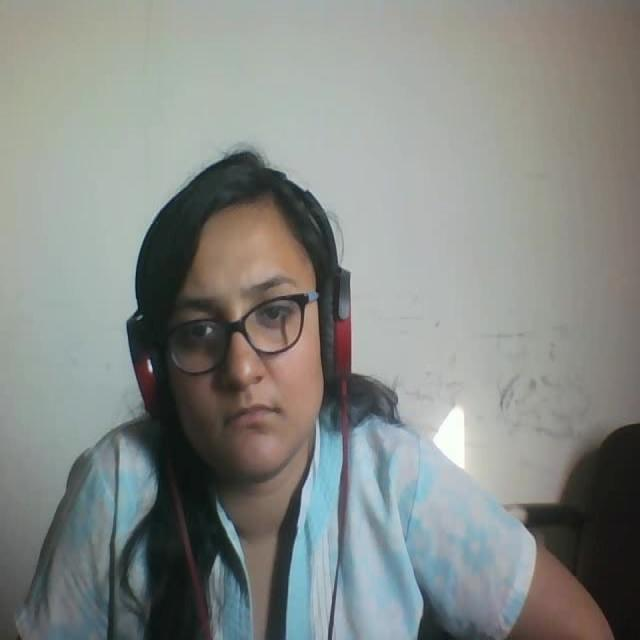Engaged: (99, 159, 379, 474)
